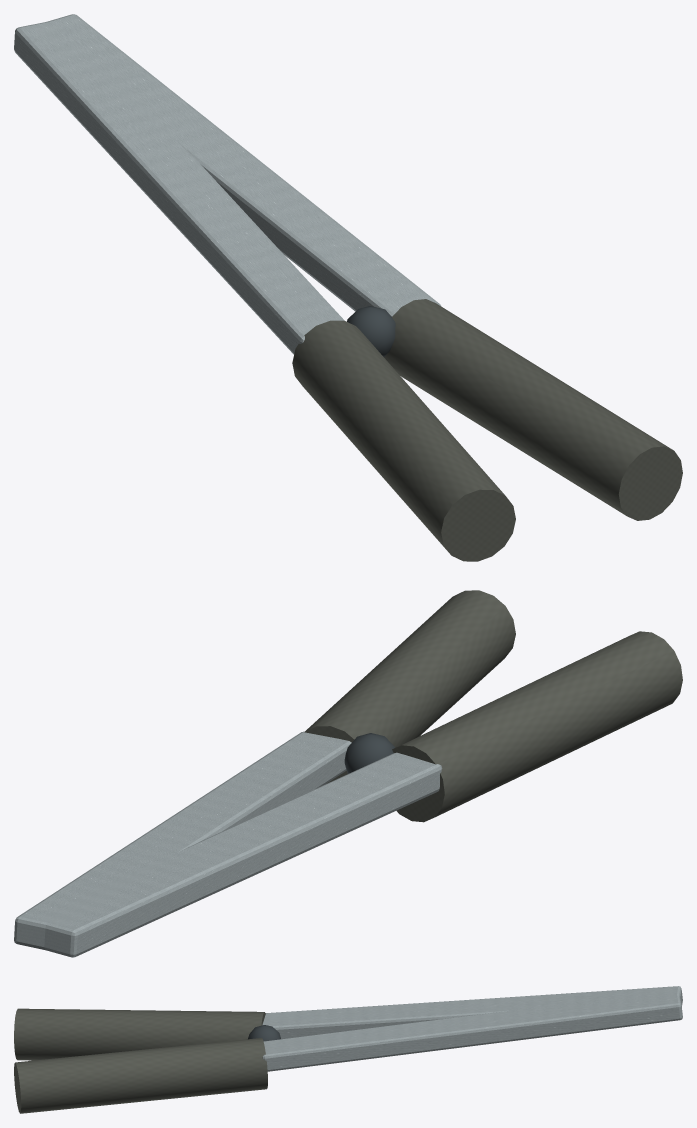
File: HandHedgeShears.gltf
3 views of the same model, one above another, from view 1: azimuth 30°, elevation 25°; view 2: azimuth 150°, elevation 25°; view 3: azimuth 270°, elevation 25° (orthographic). The views are drawn at different scales.
Visible parts, largest first — view 1: HandHedgeShears__Body; view 2: HandHedgeShears__Body; view 3: HandHedgeShears__Body.
Boxes of the visible parts, bbox=[...] form: HandHedgeShears__Body: bbox=[14, 14, 682, 561]; HandHedgeShears__Body: bbox=[14, 590, 682, 957]; HandHedgeShears__Body: bbox=[14, 986, 682, 1113].
Size of the model in its own units: 0.2123 by 0.1183 by 0.7968.
Materials: 2 (1 with a texture image).
